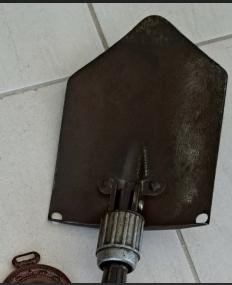PELLE: (43, 12, 232, 285)
